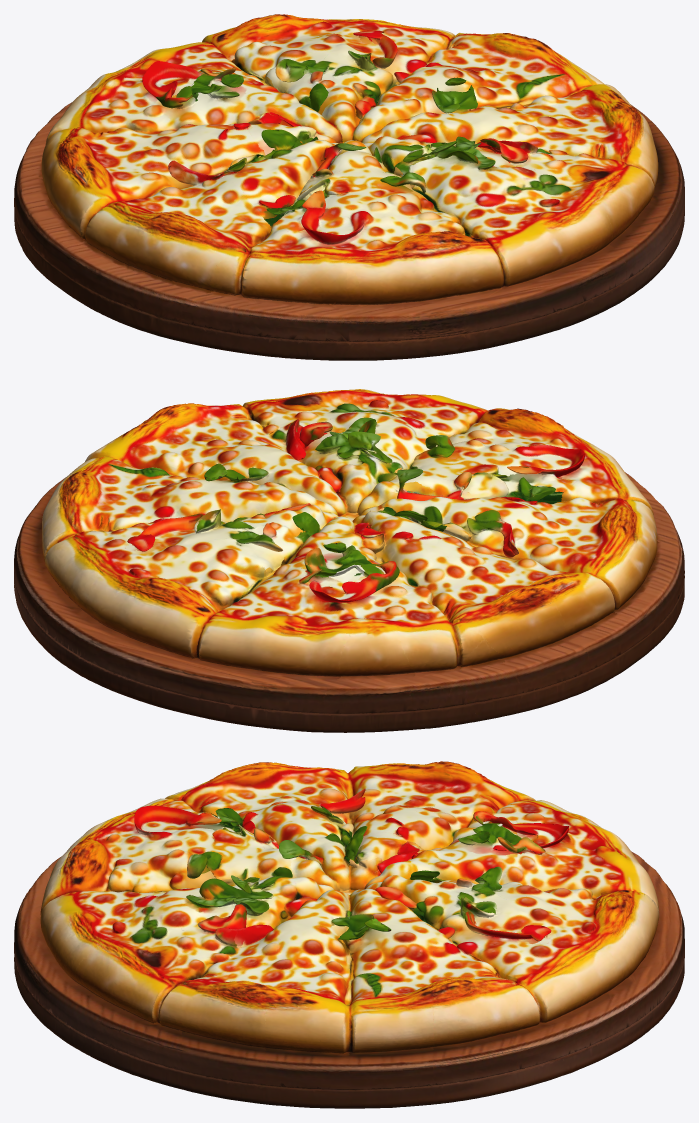
File: Magreta.glb
3 renders of one model, top to bottom at view 1: azimuth 30°, elevation 25°; view 2: azimuth 150°, elevation 25°; view 3: azimuth 270°, elevation 25°, orthographic.
Visible parts, largest first — view 1: tmpfgu9_v_tobj; view 2: tmpfgu9_v_tobj; view 3: tmpfgu9_v_tobj.
Boxes of the visible parts, box(x1,y1,x2,y2) form: tmpfgu9_v_tobj: box(14, 14, 684, 360); tmpfgu9_v_tobj: box(14, 389, 684, 732); tmpfgu9_v_tobj: box(14, 761, 684, 1108).
Bounding box in the file's own units: 0.9995 × 0.1834 × 1.
1 material, 1 textured.
